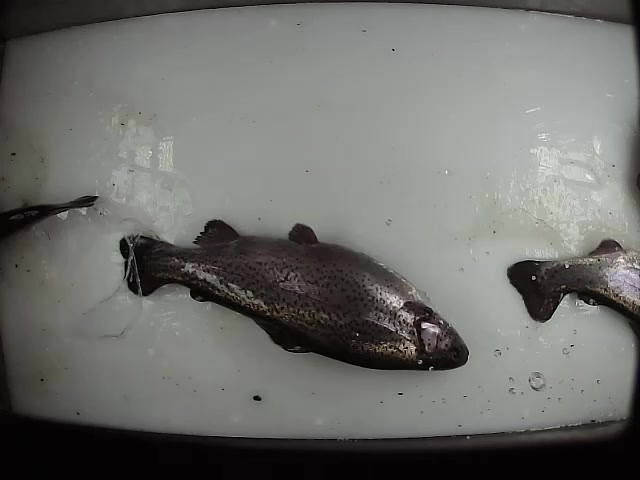fish: (116, 218, 472, 373), (506, 231, 640, 338)
